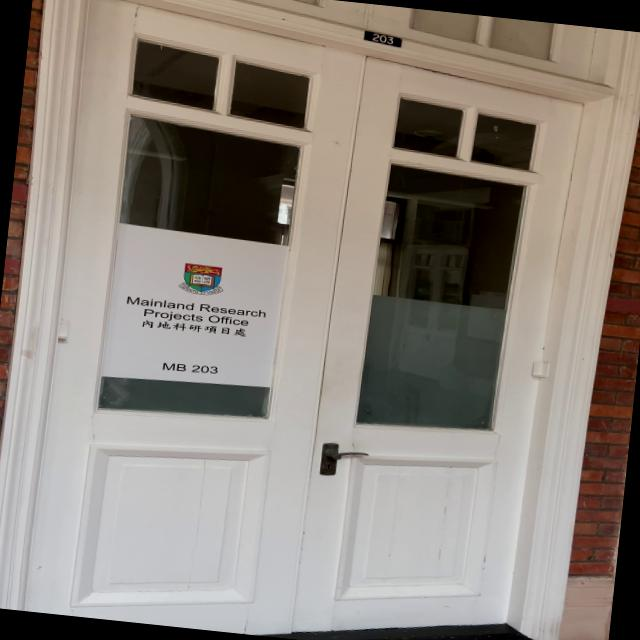room203: (353, 25, 412, 52)
room203Window: (149, 351, 230, 382)
